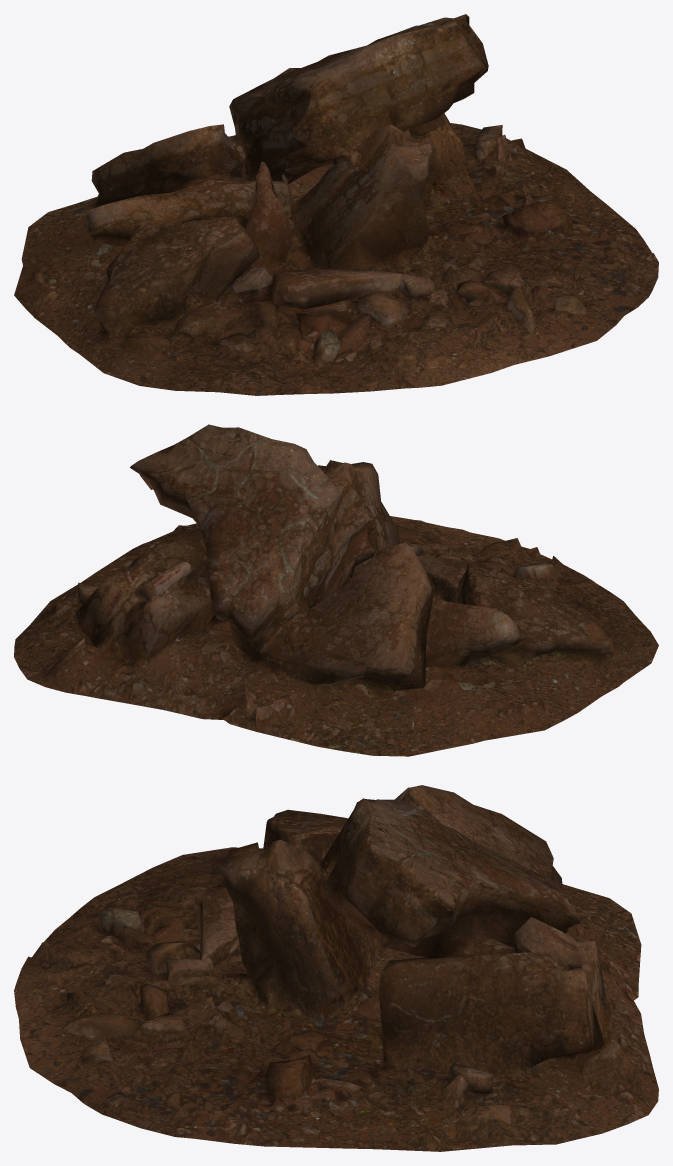
File: limestone_rocks_ubordbyda_low.glb
The picture shows the model from 3 angles, top to bottom: view 1: azimuth 30°, elevation 25°; view 2: azimuth 150°, elevation 25°; view 3: azimuth 270°, elevation 25°; orthographic projection. The views are drawn at different scales.
Visible parts, largest first — view 1: ubordbyda_LOD0_TIER3_000; view 2: ubordbyda_LOD0_TIER3_000; view 3: ubordbyda_LOD0_TIER3_000.
Boxes of the visible parts, box(x1,y1,x2,y2) form: ubordbyda_LOD0_TIER3_000: box(14, 14, 658, 395); ubordbyda_LOD0_TIER3_000: box(14, 424, 658, 756); ubordbyda_LOD0_TIER3_000: box(14, 785, 658, 1151).
Bounding box in the file's own units: 2.22 × 0.7911 × 1.98.
1 material, 1 textured.
